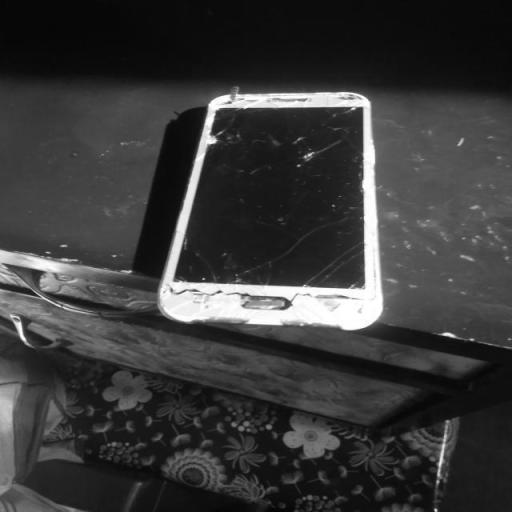phone: (158, 92, 381, 330)
